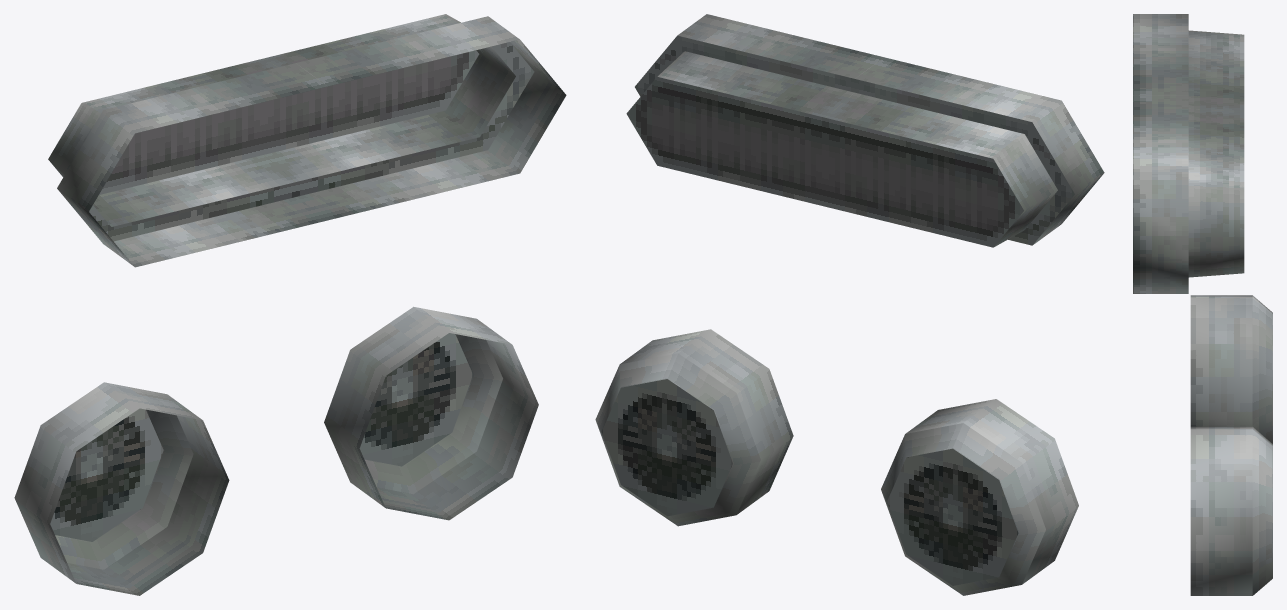
File: kse_firespray_engine_s01_l2.fbx
The picture shows the model from 3 angles, left to right: view 1: azimuth 30°, elevation 25°; view 2: azimuth 150°, elevation 25°; view 3: azimuth 270°, elevation 25°; orthographic projection. The views are drawn at different scales.
Visible parts, largest first — view 1: mesh_node; view 2: mesh_node; view 3: mesh_node.
Boxes of the visible parts, box(x1,y1,x2,y2) form: mesh_node: box(14, 14, 566, 595); mesh_node: box(595, 14, 1104, 595); mesh_node: box(1133, 14, 1272, 595).
Bounding box in the file's own units: 6.63 × 6.43 × 1.89.
